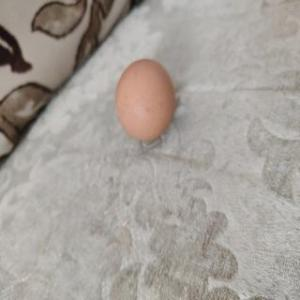egg: (115, 58, 178, 144)
